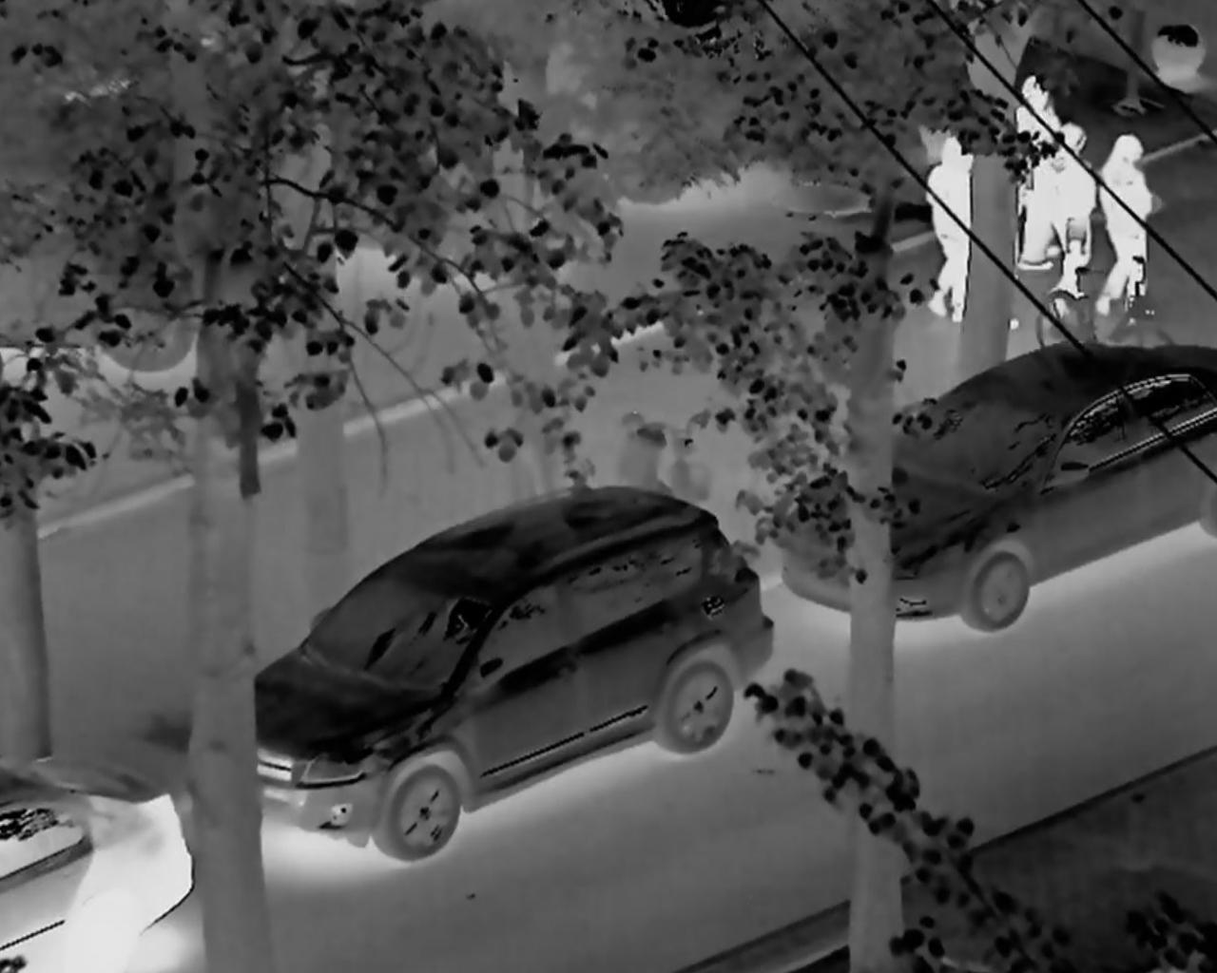person: (908, 114, 980, 336), (1045, 110, 1097, 321), (1098, 129, 1153, 314), (1020, 77, 1058, 267)
